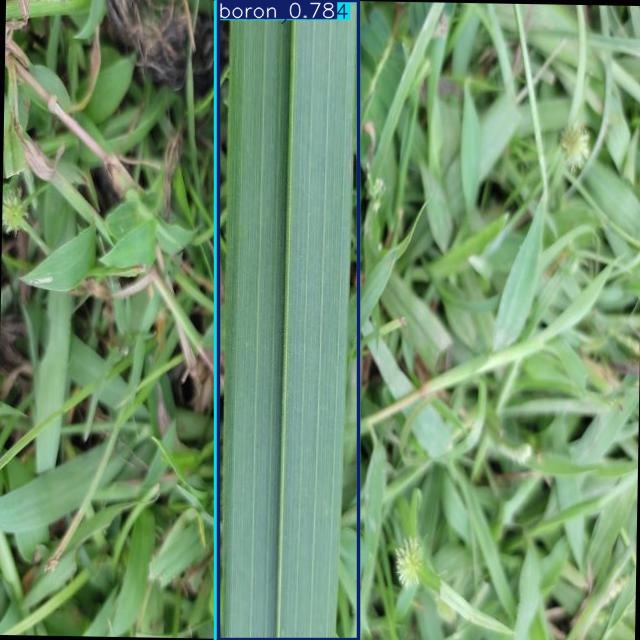Healthy: (216, 1, 359, 639)
nitrogen: (219, 1, 359, 640)
